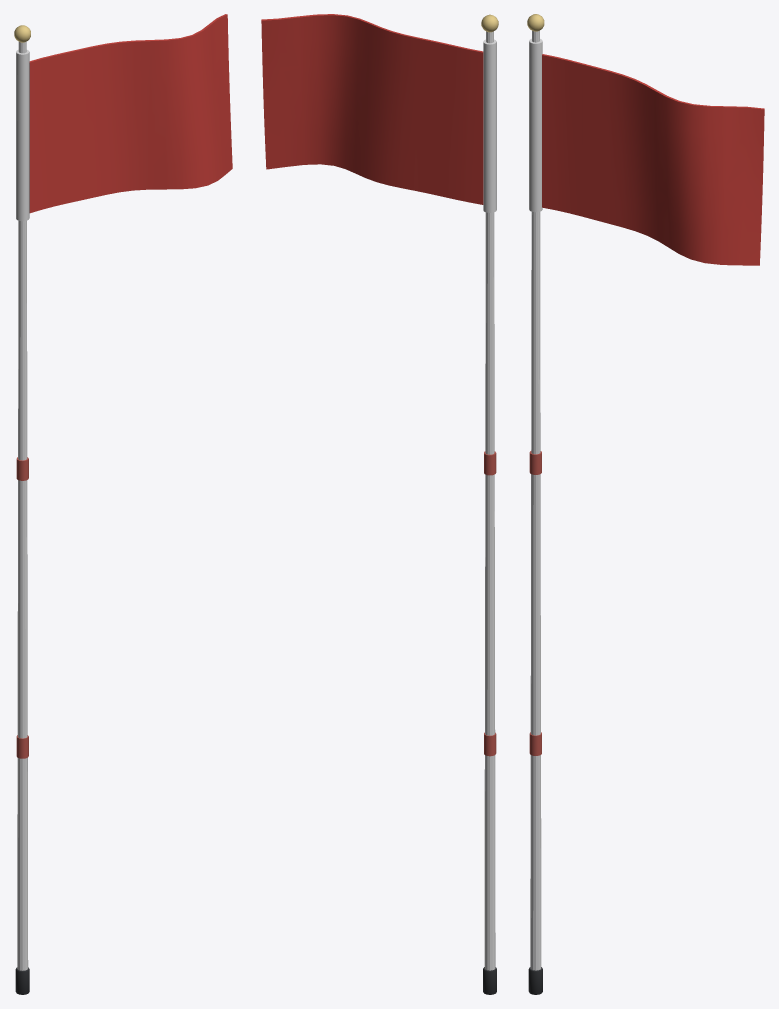
File: flagstick.glb
3 renders of one model, left to right at view 1: azimuth 30°, elevation 25°; view 2: azimuth 150°, elevation 25°; view 3: azimuth 330°, elevation 25°, orthographic.
Parts seen in each view (by area): view 1: flagstick_body; view 2: flagstick_body; view 3: flagstick_body.
Boxes of the visible parts, bbox=[...] form: flagstick_body: bbox=[14, 14, 232, 994]; flagstick_body: bbox=[261, 14, 498, 994]; flagstick_body: bbox=[527, 14, 764, 994].
Bounding box in the file's own units: 0.5878 × 2.43 × 0.0989.
